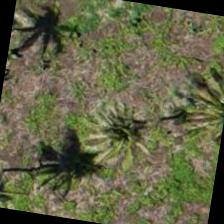Kelapa_Sawit: (68, 81, 170, 184), (171, 61, 223, 159)
